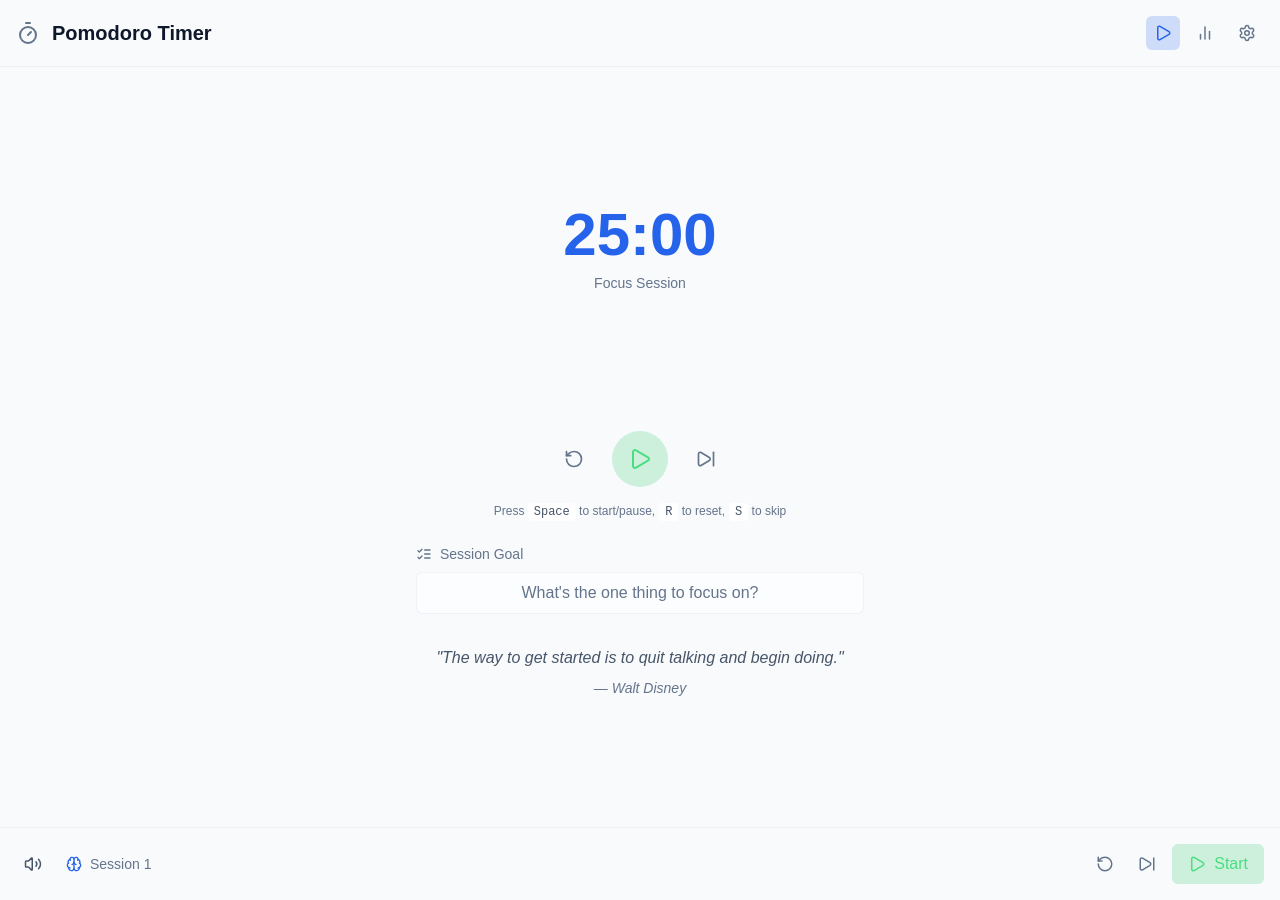
Test case: PomodoroTablet › view navigation › should switch to stats view when stats button is clicked
Click the button named "Statistics" at (1205, 33), box [1188, 16, 1222, 50]
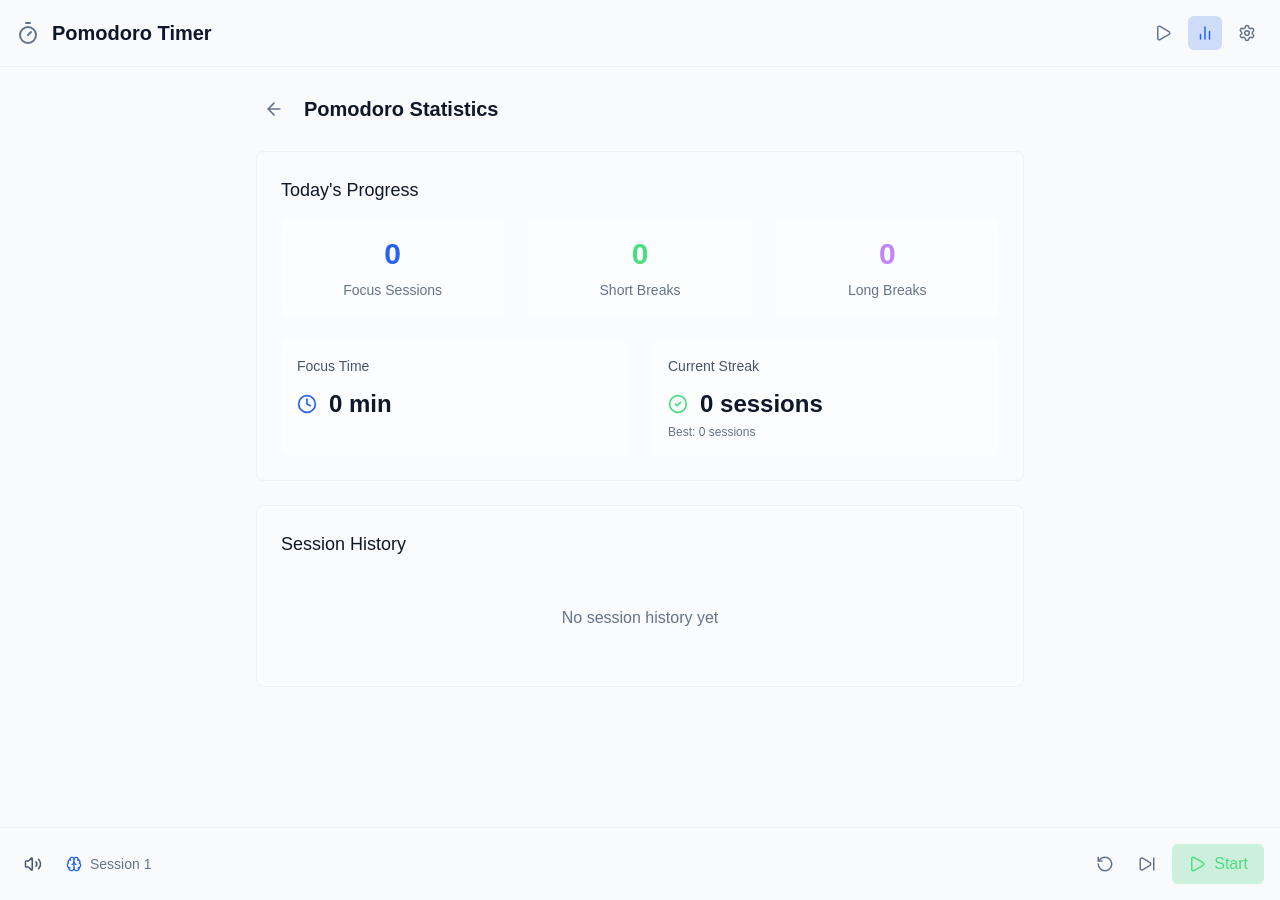
Expected: the heading "Pomodoro Statistics" is shown, [304, 95, 498, 123]
